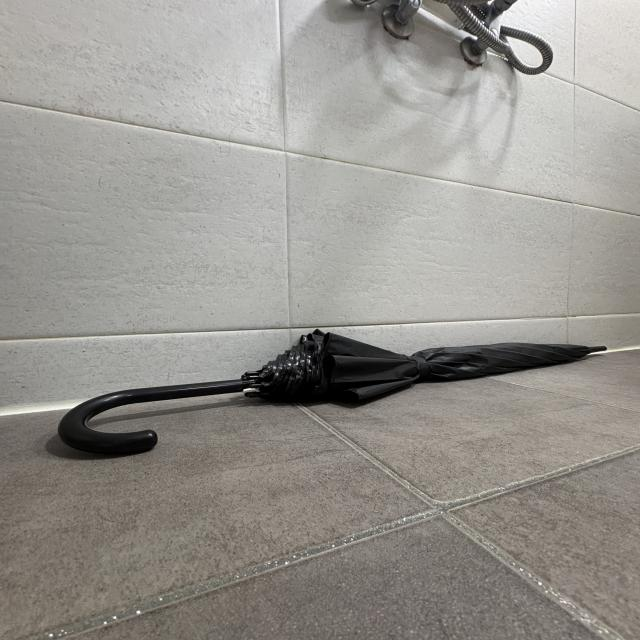umbrella: (63, 327, 608, 454)
